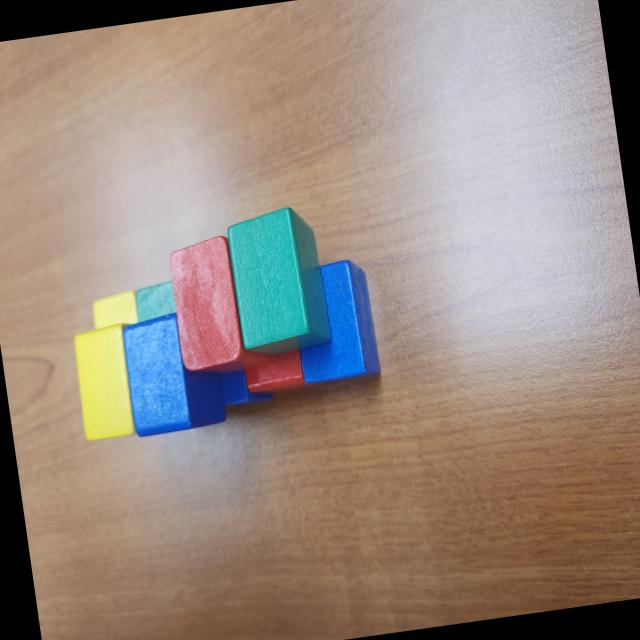blue: (119, 308, 229, 438), (286, 256, 383, 388), (217, 366, 276, 410)
green: (223, 204, 334, 358), (132, 279, 180, 325)
red: (166, 230, 274, 380), (240, 334, 326, 399)
yellow: (70, 324, 136, 444), (88, 287, 142, 332)
